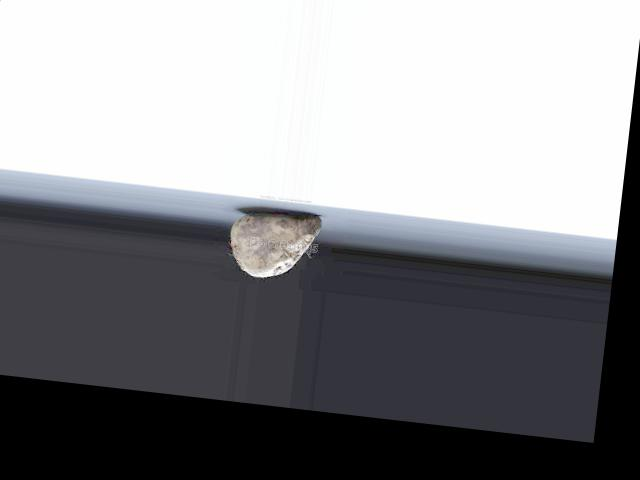beet: (224, 206, 320, 282)
